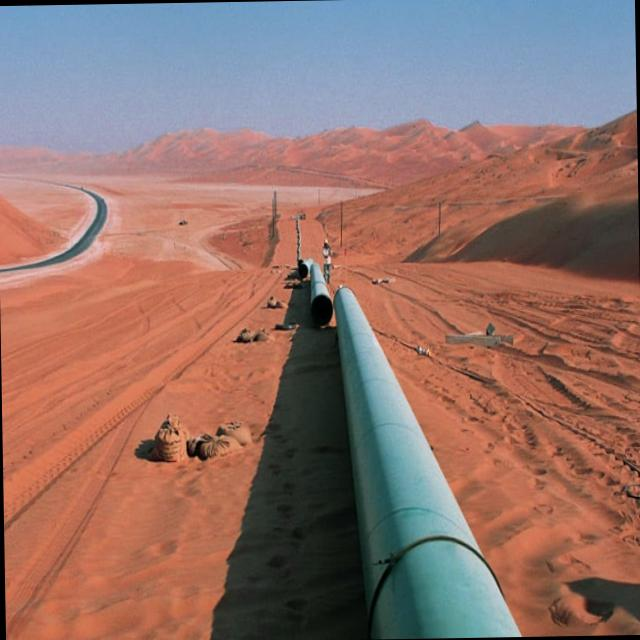gas: (333, 286, 522, 639), (311, 263, 332, 325)
